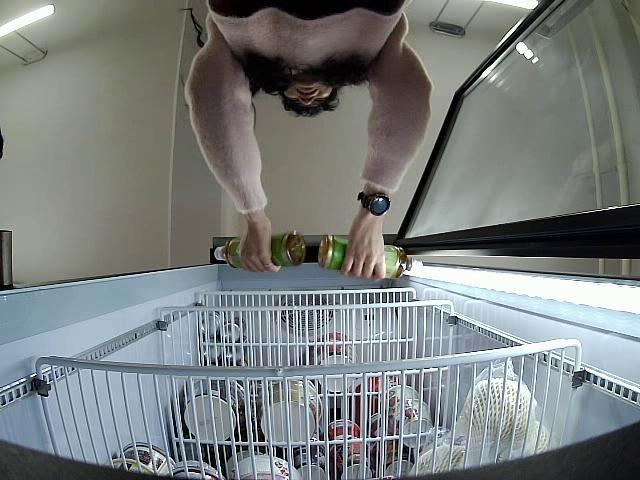19_17cha: (319, 234, 425, 282), (214, 232, 306, 269)
